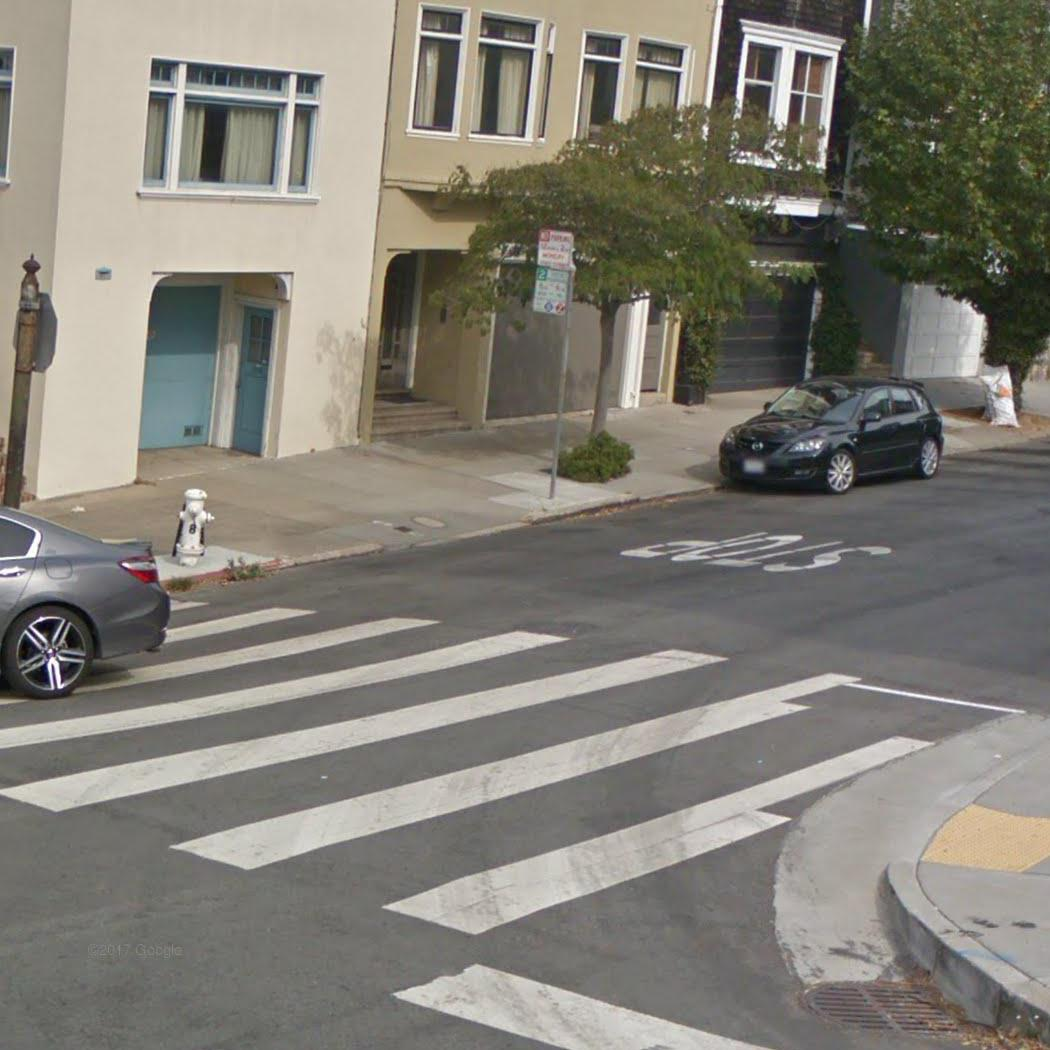2 Hour Parking: (530, 266, 572, 317)
No Parking: (536, 227, 575, 272)
